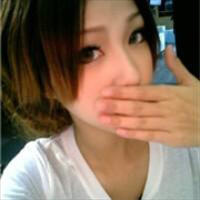face: (59, 1, 156, 131)
